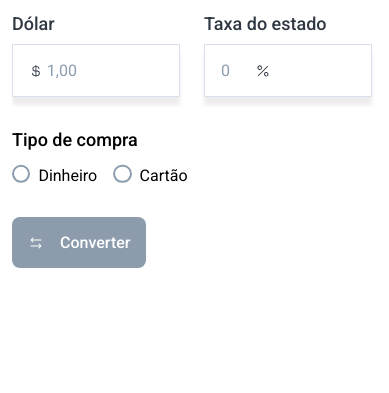
Scenario: Form Component › should display an error for invalid state tax
Type "101" into the number field labelled "Taxa do estado" at (236, 70), box [221,61,251,80]
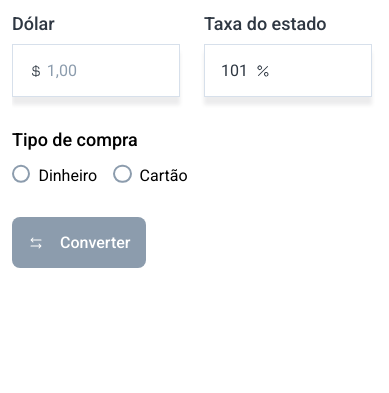
Click the button "Converter" at (79, 242), box [12,217,146,268]
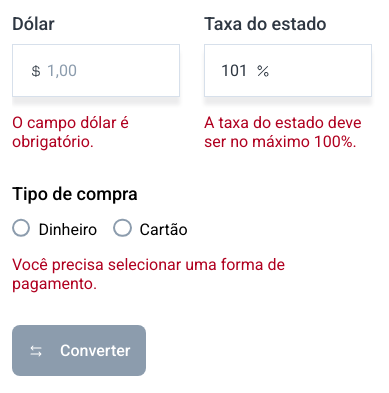
Now the text "A taxa do estado deve ser no máximo 100%." is shown, box [204,113,372,151]
